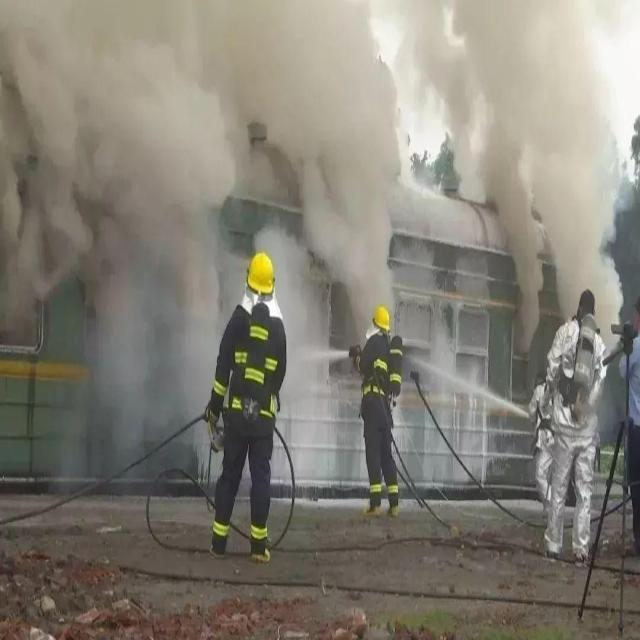Smoke: (1, 1, 634, 447)
